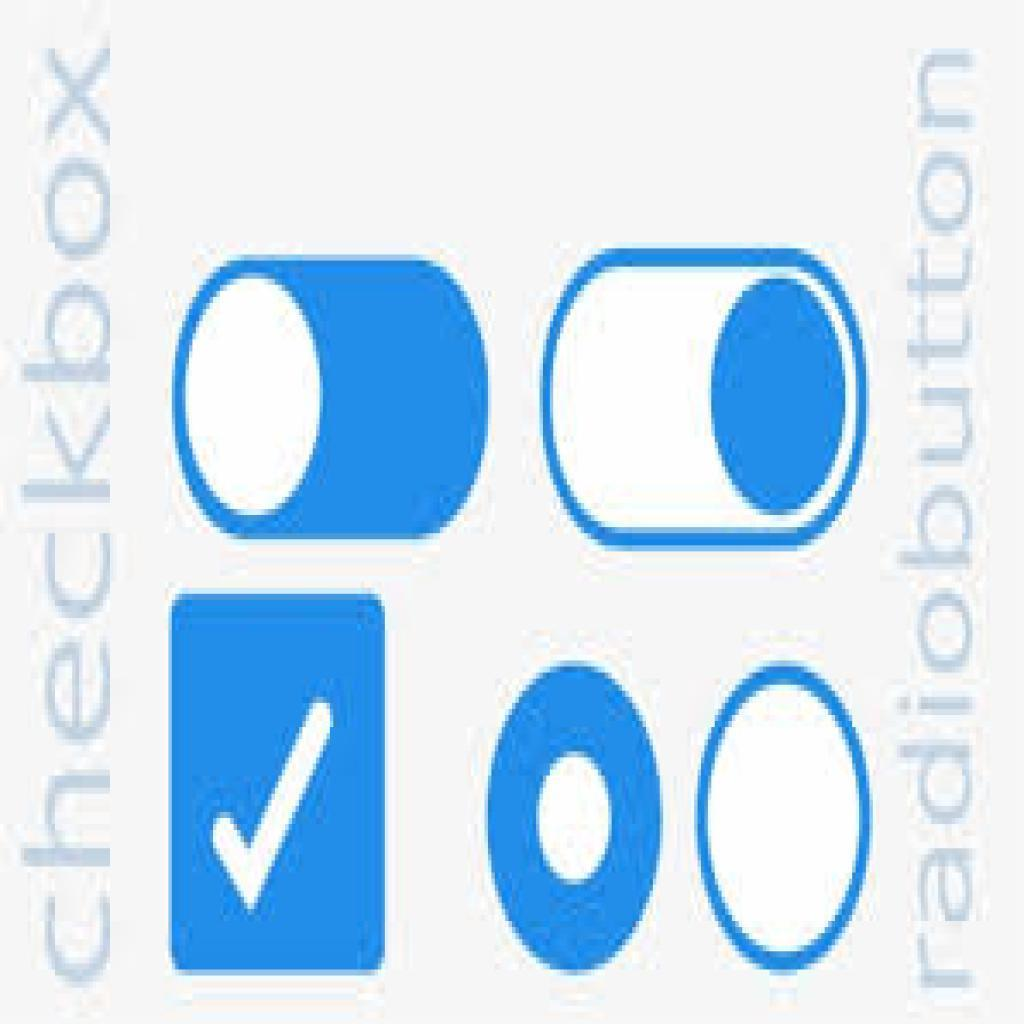checkbox: (172, 595, 388, 976)
radio: (484, 662, 666, 978), (696, 665, 876, 975)
switch: (541, 252, 872, 552), (177, 257, 491, 542)
